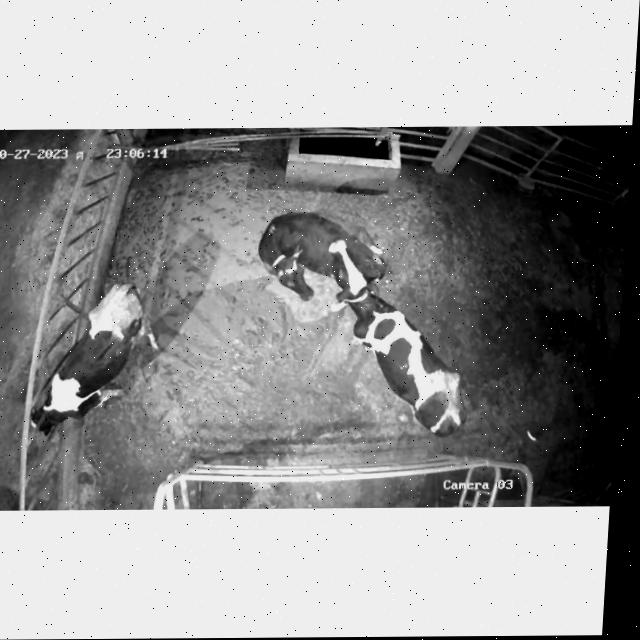propping: (308, 216, 392, 327)
